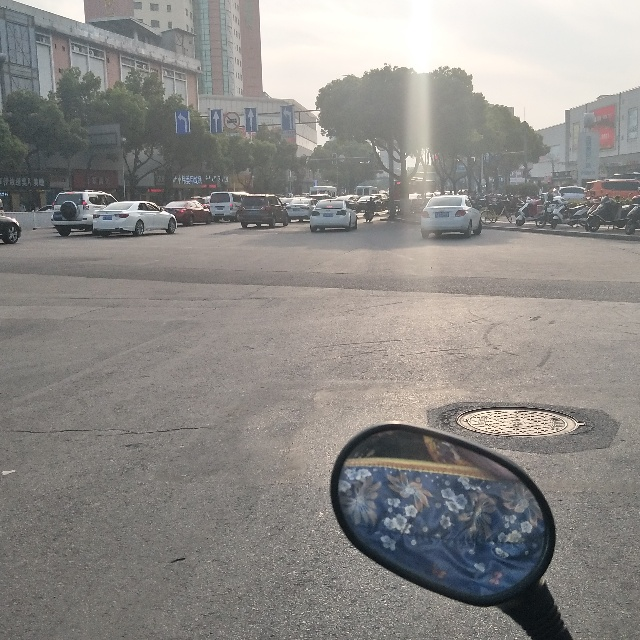left: (170, 107, 193, 135), (280, 99, 295, 131)
straight: (244, 102, 260, 133), (208, 104, 223, 133)
